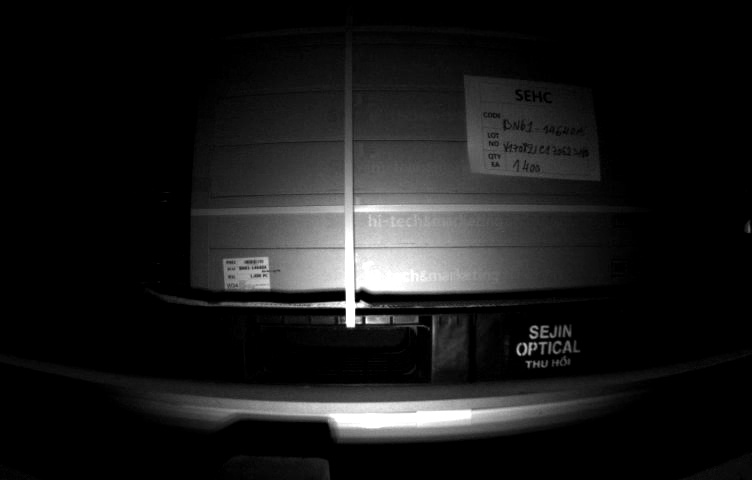True Barcode: (220, 256, 273, 291)
